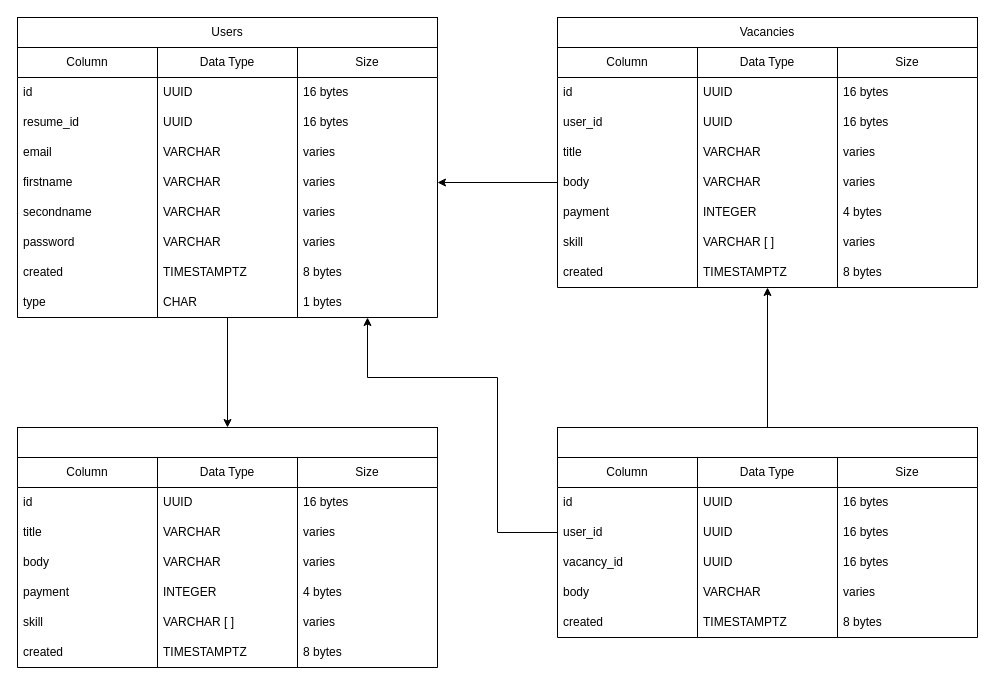
This 995x685 diagram has some shape labels left out. Each missing label, with the centre of its shape:
Responses: point 767,442
Resumes: point 227,442
